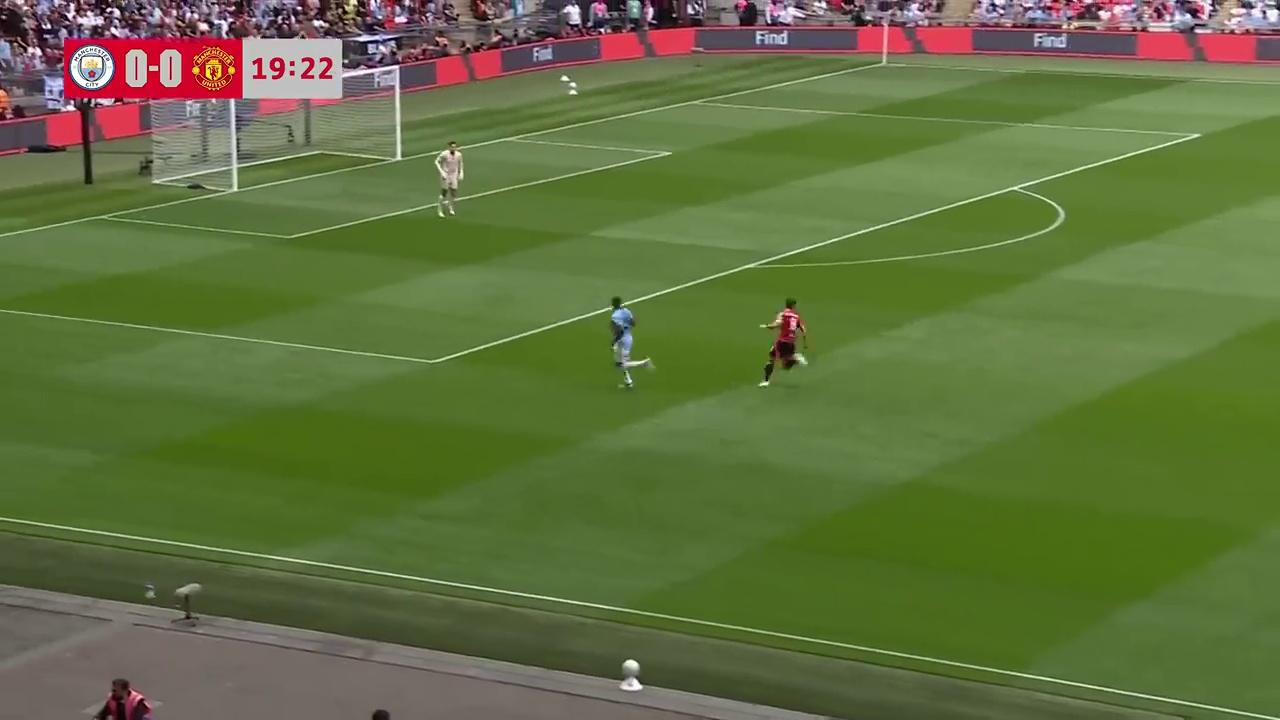player: (757, 299, 809, 386), (608, 297, 647, 389), (436, 144, 467, 217)
